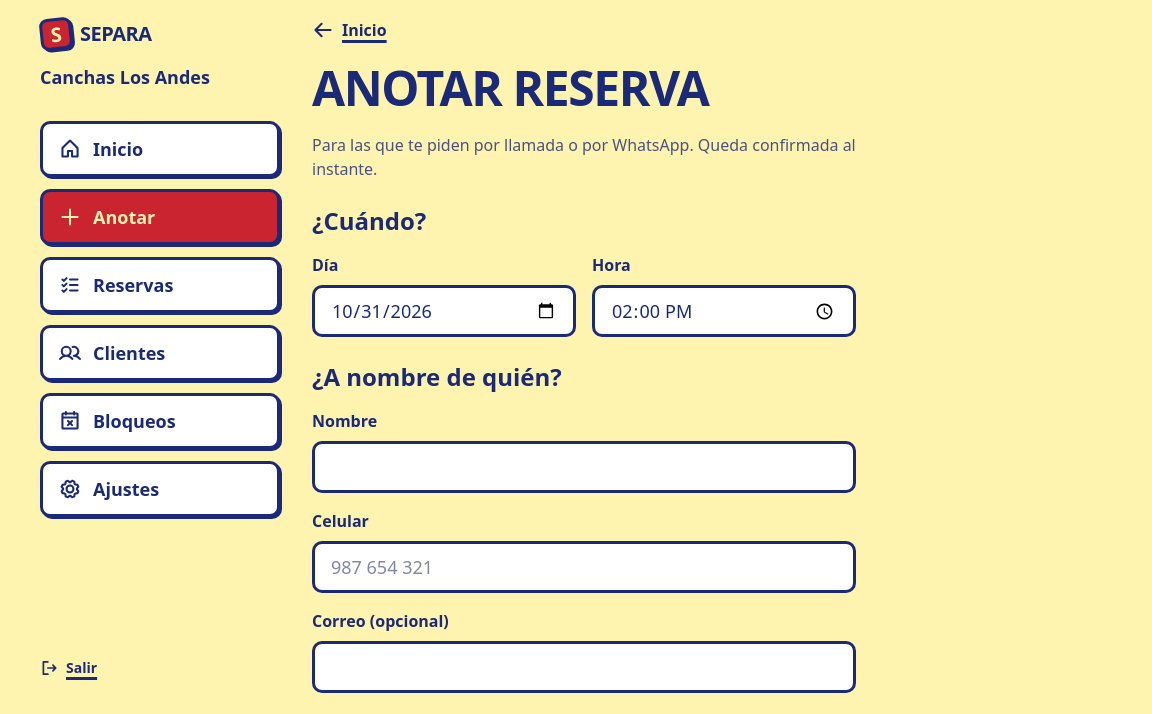
Test: writing down a booking › converts the business clock time into the instant the server expects
Type "2030-01-07" into the date field labelled "Día" at (444, 311), box [312, 285, 576, 337]
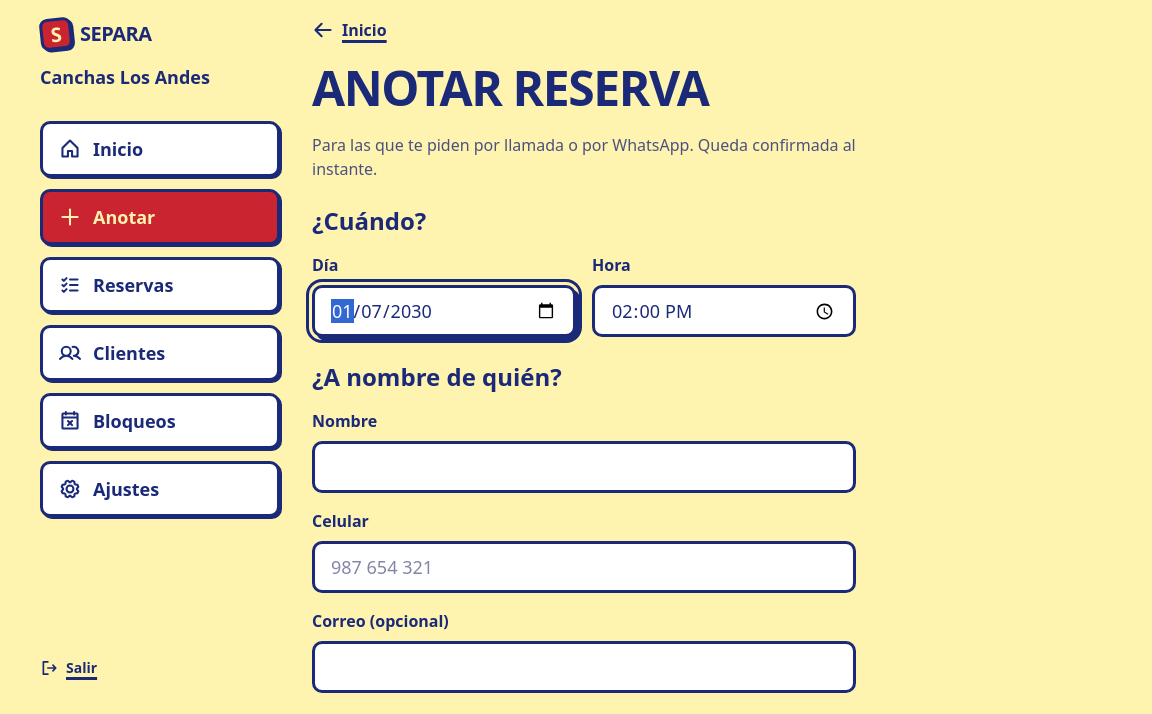
Replace the text in the time field labelled "Hora" with "19:00" at (724, 311), box [592, 285, 856, 337]
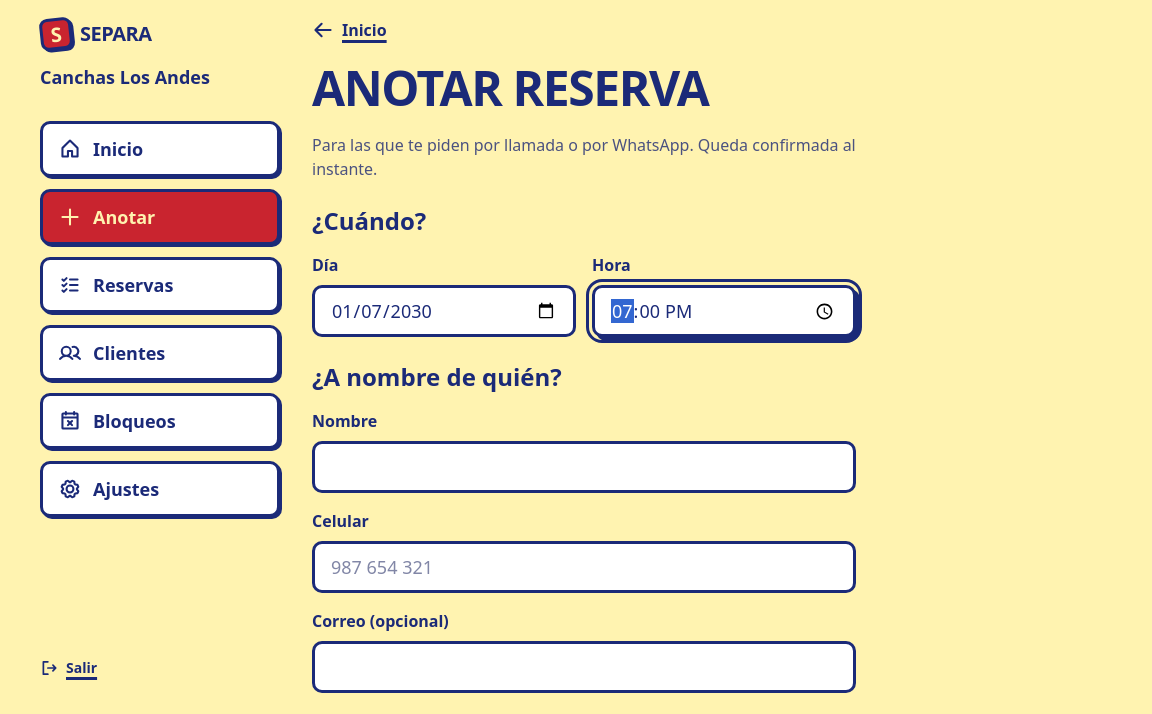
Type "Marta Díaz" into the field labelled "Nombre" at (584, 467), box [312, 441, 856, 493]
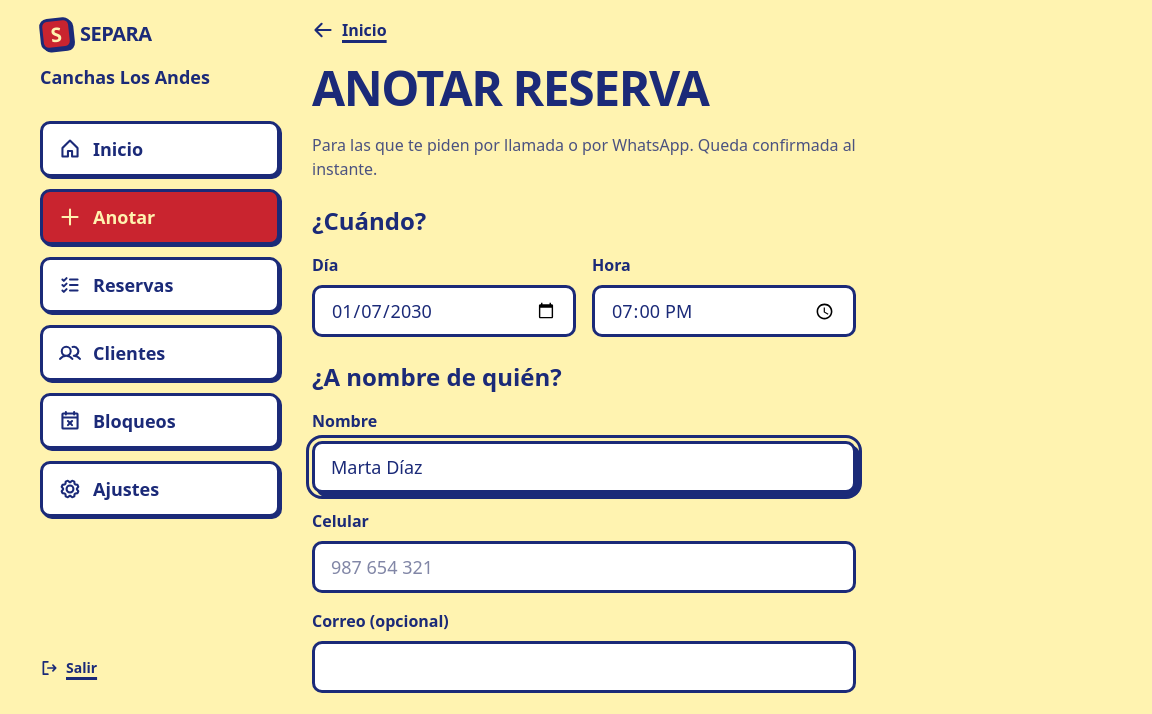
Type "955 111 222" into the field labelled "Celular" at (584, 567), box [312, 541, 856, 593]
(page scrolled)
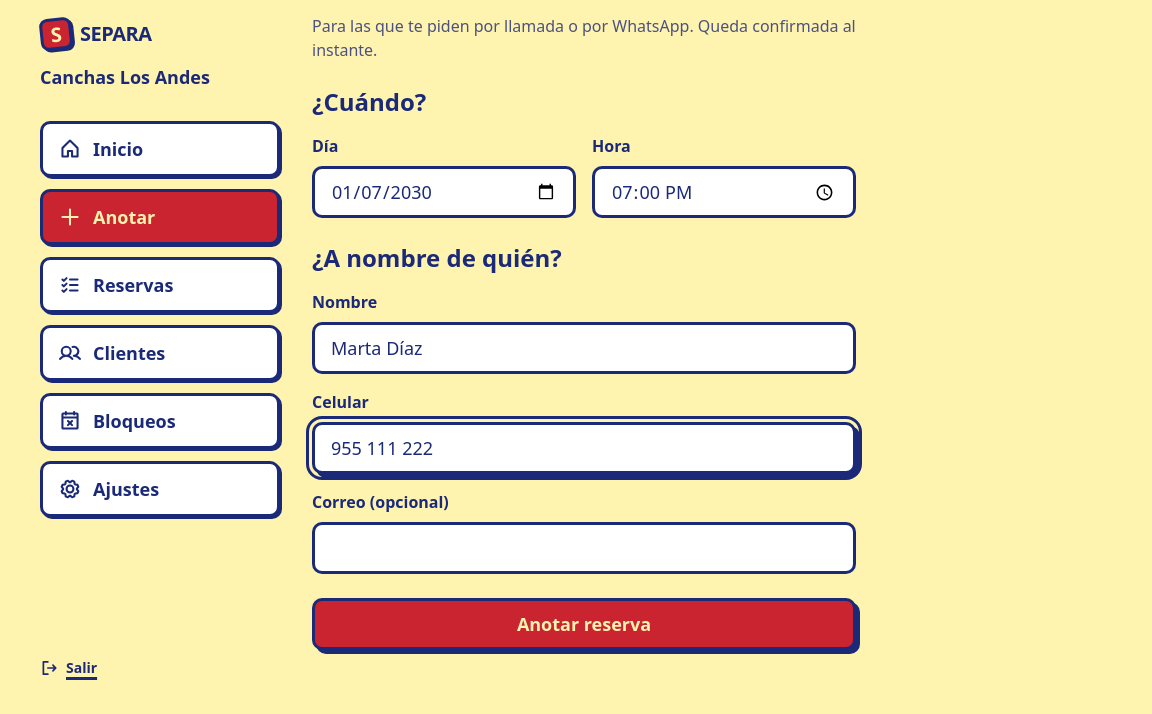
Click the button "Anotar reserva" at (584, 624), box [312, 598, 856, 650]
(page scrolled)
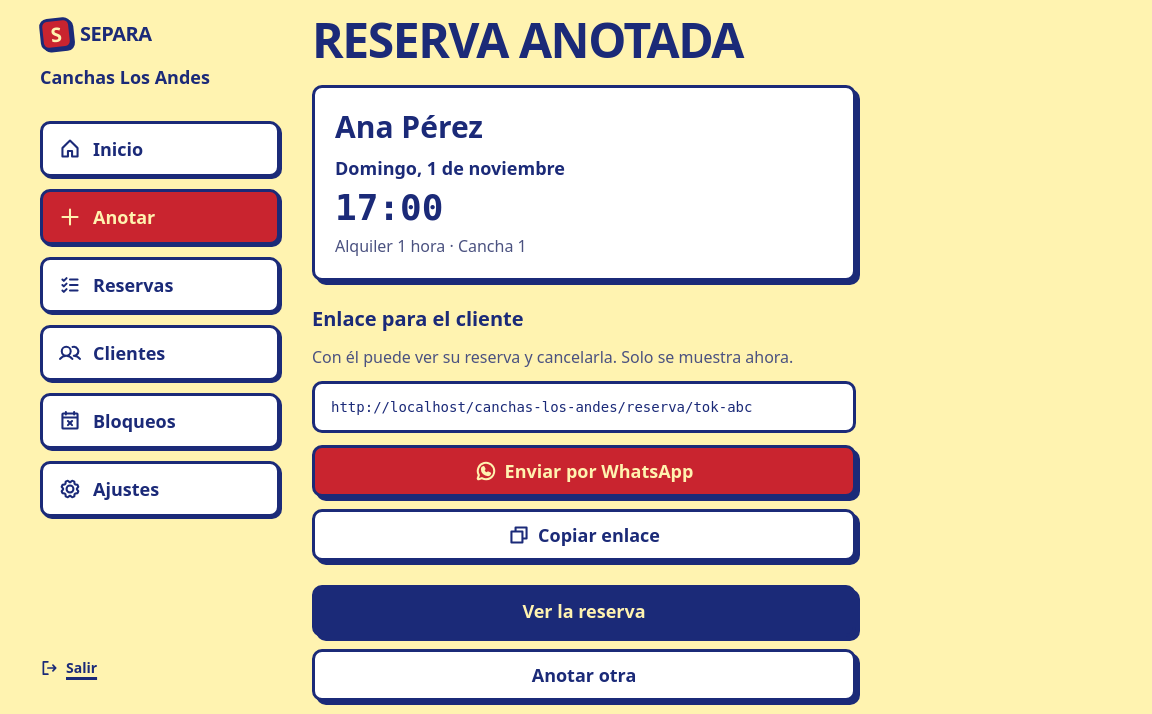
Check: the heading "Reserva anotada" is shown, box [312, 7, 743, 72]
